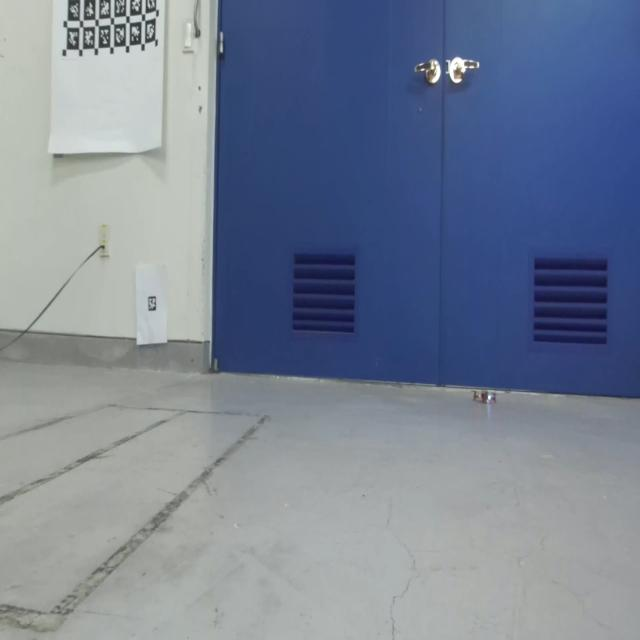crazyflie: (469, 385, 502, 410)
